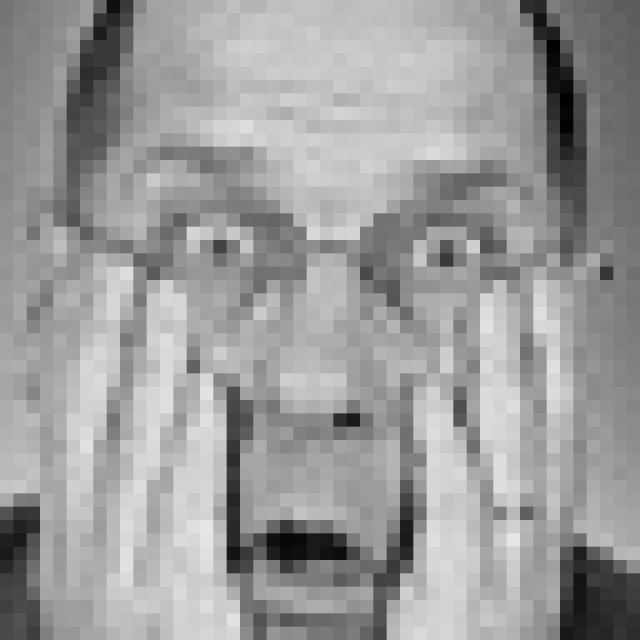fear: (120, 114, 540, 629)
